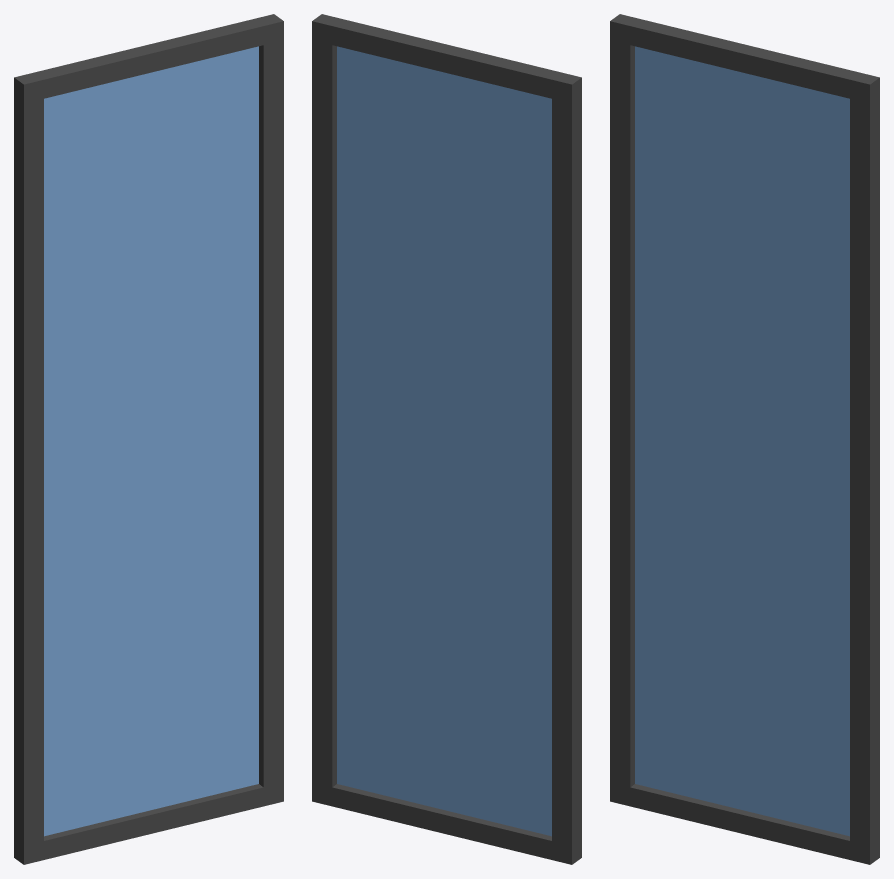
File: SM_MainDoor_Right.fbx
3 renders of one model, left to right at view 1: azimuth 30°, elevation 25°; view 2: azimuth 150°, elevation 25°; view 3: azimuth 330°, elevation 25°, orthographic.
Visible parts, largest first — view 1: SM_MainDoor_Right; view 2: SM_MainDoor_Right; view 3: SM_MainDoor_Right.
Part boxes in pixels (left/top/right/bottom): SM_MainDoor_Right: left=14, top=14, right=283, bottom=864; SM_MainDoor_Right: left=312, top=14, right=581, bottom=864; SM_MainDoor_Right: left=610, top=14, right=879, bottom=864.
Bounding box in the file's own units: 95 × 272 × 6.2.
